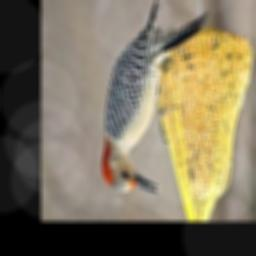Woodpecker: (87, 4, 215, 201)
